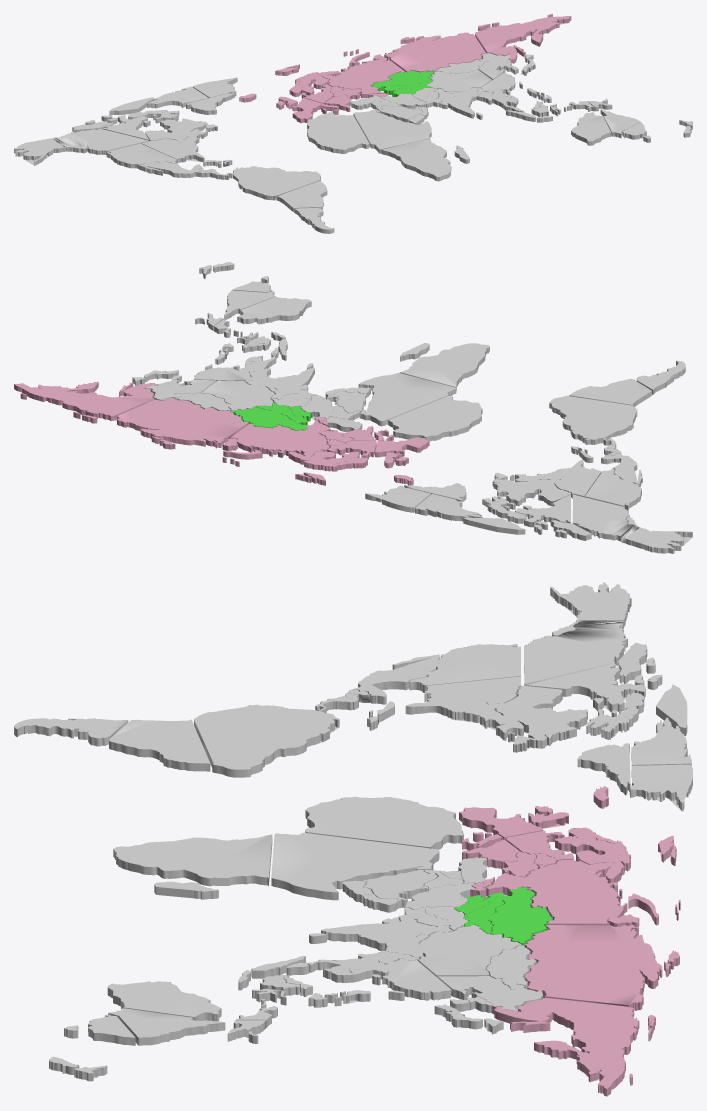
File: THE_BEST_WORLD_IN_THE_WORLD_.fbx
The picture shows the model from 3 angles, top to bottom: view 1: azimuth 30°, elevation 25°; view 2: azimuth 150°, elevation 25°; view 3: azimuth 270°, elevation 25°; orthographic projection. The views are drawn at different scales.
Parts seen in each view (by area): view 1: Центральная Россия, Восточная Россия, Западная Россия, Восточная Канада, Север Южнаой Америки, Восточная Африка, Западная Африка, Южная Африка, Западная Канада, Западная США, Восточная США, Западный Китай (+22 smaller); view 2: Центральная Россия, Западная Россия, Восточная Россия, Восточная Канада, Север Южнаой Америки, Восточная Африка, Западная Африка, Южная Африка, Западная Канада, Южная Канада, Западный Китай, Западная Австралия (+22 smaller); view 3: Центральная Россия, Восточная Россия, Восточная Африка, Север Южнаой Америки, Западная Россия, Восточная Канада, Южная Африка, Западная Африка, Западная Канада, Центр Южной Америки, Южная Канада, Восточная США (+26 smaller).
Part boxes in pixels (x1=…): Центральная Россия: x1=384, y1=32, x2=485, y2=72; Восточная Россия: x1=475, y1=14, x2=571, y2=63; Западная Россия: x1=318, y1=49, x2=404, y2=99; Восточная Канада: x1=72, y1=97, x2=217, y2=141; Север Южнаой Америки: x1=232, y1=166, x2=320, y2=200; Восточная Африка: x1=353, y1=109, x2=431, y2=153; Западная Африка: x1=307, y1=112, x2=369, y2=153; Южная Африка: x1=381, y1=138, x2=451, y2=181; Западная Канада: x1=52, y1=128, x2=148, y2=154; Западная США: x1=106, y1=138, x2=186, y2=168; Восточная США: x1=141, y1=132, x2=204, y2=163; Западный Китай: x1=426, y1=69, x2=491, y2=92; Центральная Россия: x1=116, y1=398, x2=248, y2=449; Западная Россия: x1=222, y1=420, x2=337, y2=466; Восточная Россия: x1=14, y1=381, x2=158, y2=423; Восточная Канада: x1=463, y1=472, x2=591, y2=540; Север Южнаой Америки: x1=549, y1=395, x2=637, y2=444; Восточная Африка: x1=358, y1=373, x2=456, y2=426; Западная Африка: x1=388, y1=396, x2=482, y2=440; Южная Африка: x1=399, y1=343, x2=489, y2=390; Западная Канада: x1=572, y1=494, x2=638, y2=543; Южная Канада: x1=492, y1=474, x2=570, y2=506; Западный Китай: x1=201, y1=380, x2=274, y2=412; Западная Австралия: x1=237, y1=296, x2=311, y2=324; Центральная Россия: x1=525, y1=924, x2=679, y2=1010; Восточная Россия: x1=492, y1=997, x2=655, y2=1096; Восточная Африка: x1=271, y1=832, x2=439, y2=900; Север Южнаой Америки: x1=194, y1=704, x2=339, y2=777; Западная Россия: x1=486, y1=859, x2=680, y2=927; Восточная Канада: x1=508, y1=642, x2=687, y2=752; Южная Африка: x1=113, y1=834, x2=272, y2=886; Западная Африка: x1=305, y1=796, x2=463, y2=849; Западная Канада: x1=524, y1=620, x2=627, y2=685; Центр Южной Америки: x1=109, y1=719, x2=210, y2=771; Южная Канада: x1=487, y1=685, x2=587, y2=748; Восточная США: x1=405, y1=676, x2=521, y2=730.
Bounding box in the file's own units: 877 × 6.53 × 497.
